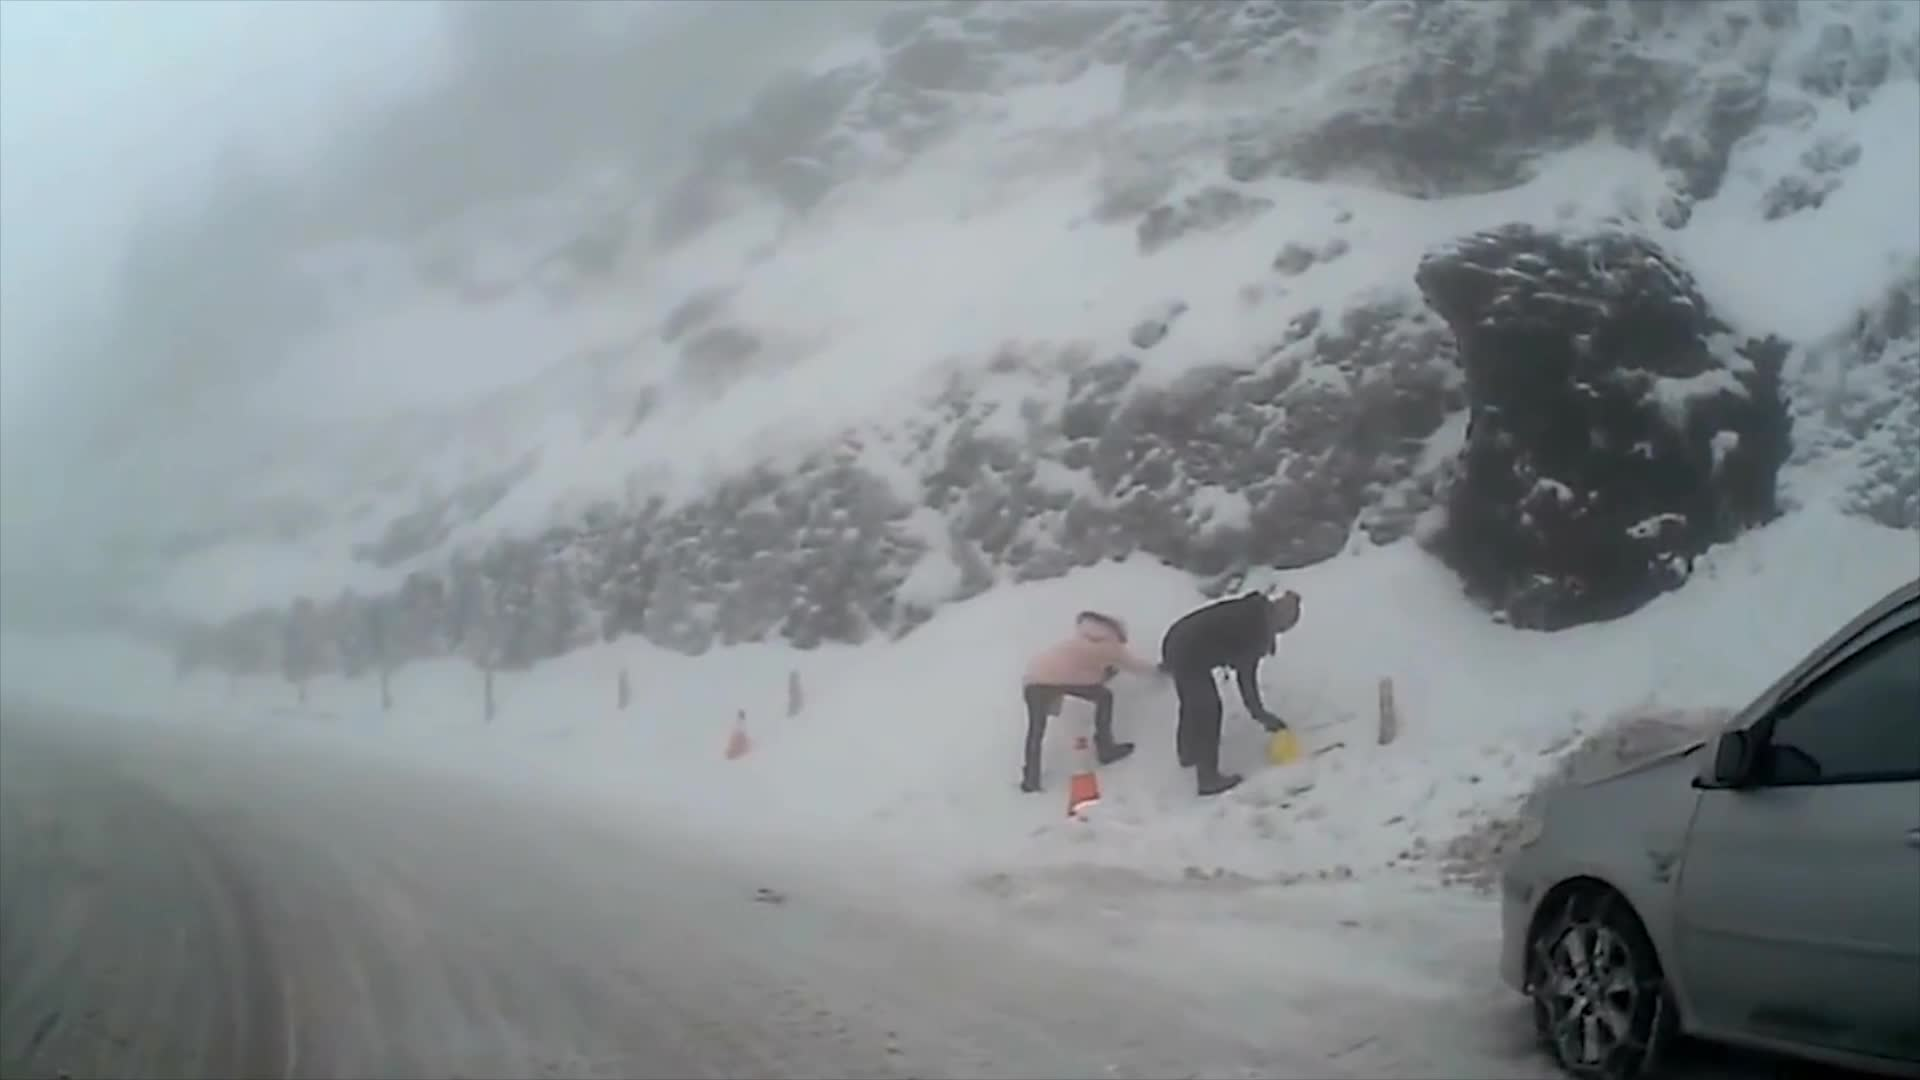pedestrian: (1162, 588, 1299, 799), (1015, 613, 1169, 793)
vehicle: (1498, 582, 1920, 1077)
